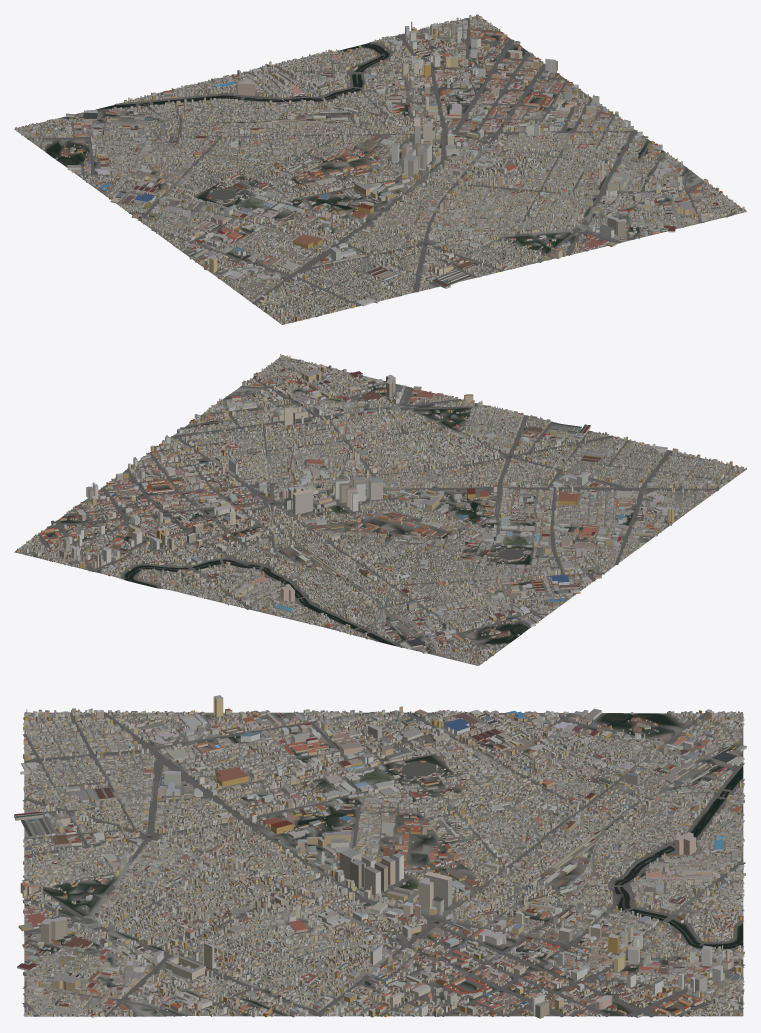
3 views of the same model, one above another, from view 1: azimuth 30°, elevation 25°; view 2: azimuth 150°, elevation 25°; view 3: azimuth 270°, elevation 25° (orthographic). The views are drawn at different scales.
Parts seen in each view (by area): view 1: buildings, ground, roads, water; view 2: buildings, ground, roads, water; view 3: buildings, ground, roads, water.
Part boxes in pixels (left/top/right/bottom): buildings: left=15, top=14, right=746, bottom=324; ground: left=14, top=16, right=746, bottom=324; roads: left=17, top=18, right=741, bottom=323; water: left=47, top=43, right=551, bottom=241; buildings: left=15, top=354, right=746, bottom=665; ground: left=14, top=357, right=745, bottom=665; roads: left=24, top=358, right=744, bottom=663; water: left=124, top=413, right=521, bottom=646; buildings: left=14, top=695, right=746, bottom=1018; ground: left=24, top=712, right=743, bottom=1016; roads: left=22, top=712, right=745, bottom=1017; water: left=76, top=713, right=743, bottom=948.
Size of the model in its own units: 2839 by 122 by 2856.
